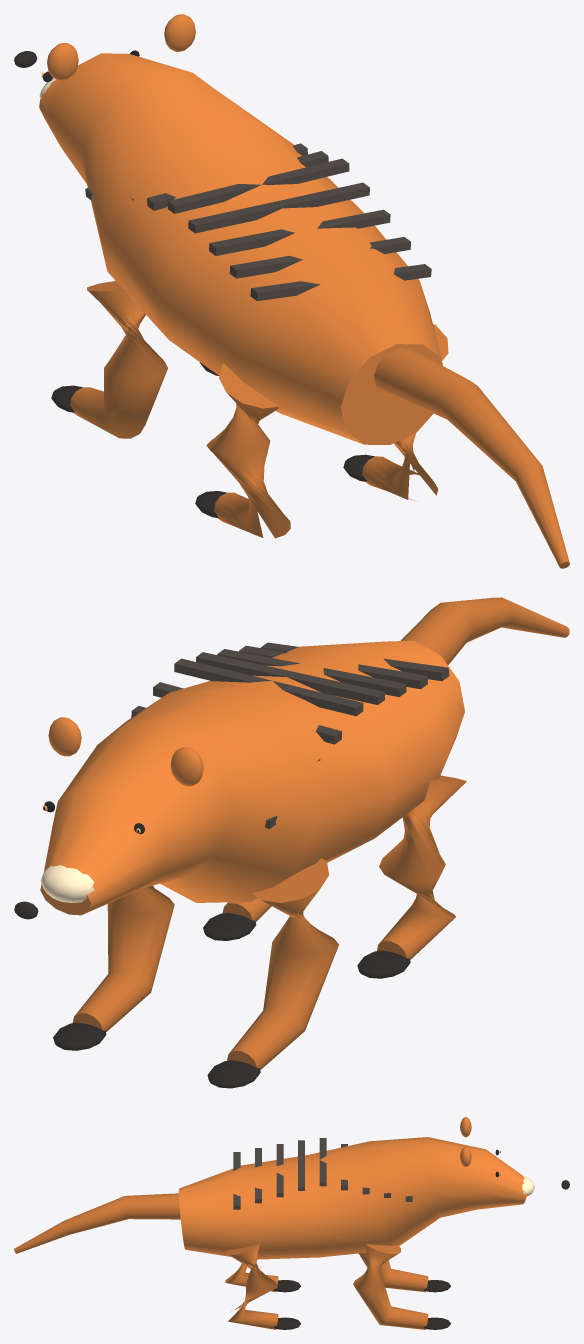
The model's file is tiger_hero.glb.
3 renders of one model, top to bottom at view 1: azimuth 30°, elevation 25°; view 2: azimuth 150°, elevation 25°; view 3: azimuth 270°, elevation 25°, orthographic. The views are drawn at different scales.
Visible parts, largest first — view 1: TigerOrganicBody, Tail, Leg_LF, Leg_LH, CoatStripe_03, Leg_RH, CoatStripe_04, CoatStripe_02, CoatStripe_01, CoatStripe_00, RoundEar2, RoundEar; view 2: TigerOrganicBody, Leg_LF, Leg_RF, Leg_LH, Tail, CoatStripe_03, CoatStripe_04, CoatStripe_02, Muzzle, CoatStripe_01, Paw_LF, Paw_RF (+7 smaller); view 3: TigerOrganicBody, Tail, Leg_RF, Leg_RH, Leg_LF, Leg_LH, CoatStripe_04, CoatStripe_02, CoatStripe_03.
Part boxes in pixels (bbox=[...]): TigerOrganicBody: bbox=[39, 53, 442, 444]; Tail: bbox=[374, 348, 569, 568]; Leg_LF: bbox=[70, 281, 167, 438]; Leg_LH: bbox=[206, 363, 290, 538]; CoatStripe_03: bbox=[188, 182, 369, 233]; Leg_RH: bbox=[362, 324, 448, 500]; CoatStripe_04: bbox=[167, 158, 349, 213]; CoatStripe_02: bbox=[209, 209, 390, 255]; CoatStripe_01: bbox=[229, 237, 410, 278]; CoatStripe_00: bbox=[250, 264, 431, 301]; RoundEar2: bbox=[164, 14, 195, 51]; RoundEar: bbox=[47, 43, 78, 80]; TigerOrganicBody: bbox=[40, 640, 464, 915]; Leg_LF: bbox=[227, 858, 338, 1069]; Leg_RF: bbox=[72, 885, 174, 1032]; Leg_LH: bbox=[377, 775, 466, 959]; Tail: bbox=[401, 597, 569, 664]; CoatStripe_03: bbox=[196, 652, 384, 704]; CoatStripe_04: bbox=[174, 658, 363, 716]; CoatStripe_02: bbox=[217, 649, 406, 696]; Muzzle: bbox=[40, 865, 94, 902]; CoatStripe_01: bbox=[239, 645, 427, 689]; Paw_LF: bbox=[207, 1060, 260, 1088]; Paw_RF: bbox=[53, 1022, 106, 1050]; TigerOrganicBody: bbox=[178, 1137, 527, 1259]; Tail: bbox=[14, 1193, 180, 1253]; Leg_RF: bbox=[353, 1243, 428, 1329]; Leg_RH: bbox=[226, 1243, 278, 1329]; Leg_LF: bbox=[359, 1252, 428, 1292]; Leg_LH: bbox=[225, 1263, 278, 1292]; CoatStripe_04: bbox=[319, 1138, 326, 1186]; CoatStripe_02: bbox=[276, 1144, 283, 1197]; CoatStripe_03: bbox=[298, 1140, 304, 1190].
Size of the model in its own units: 1.6 by 2.36 by 6.69.
